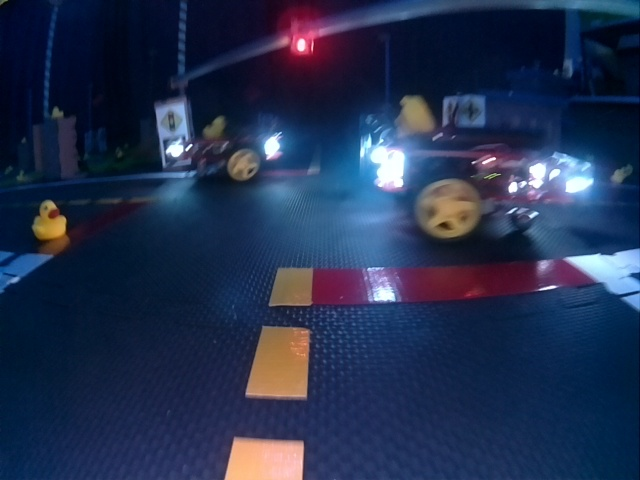Duckie: (395, 95, 434, 137), (33, 199, 66, 240), (203, 119, 227, 140), (51, 107, 64, 119)
Duckiebot: (371, 141, 593, 239), (171, 130, 283, 181)
Intersection sign: (461, 97, 482, 124)
Signal sign: (159, 108, 184, 134)
Traffic light: (289, 18, 314, 53)
